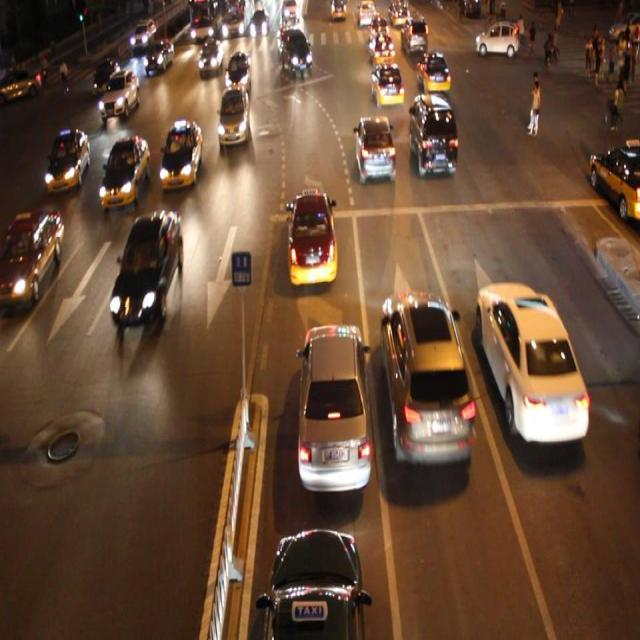car: (476, 280, 588, 442), (380, 292, 472, 465), (297, 322, 370, 491), (262, 528, 362, 640), (111, 213, 183, 327), (0, 208, 62, 306), (285, 190, 338, 286), (585, 138, 640, 218), (409, 92, 456, 176), (102, 138, 148, 205), (354, 114, 396, 184), (160, 123, 201, 189), (46, 130, 88, 192), (100, 70, 138, 120), (216, 88, 248, 146), (277, 29, 312, 75), (370, 62, 403, 106), (414, 51, 449, 92), (224, 53, 251, 89), (146, 38, 173, 73), (197, 39, 222, 72), (93, 59, 119, 90)
